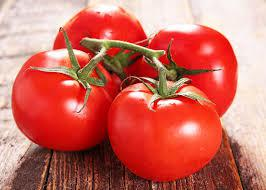tomato: (106, 81, 224, 183), (9, 49, 115, 153), (138, 23, 238, 119), (50, 5, 146, 72)
